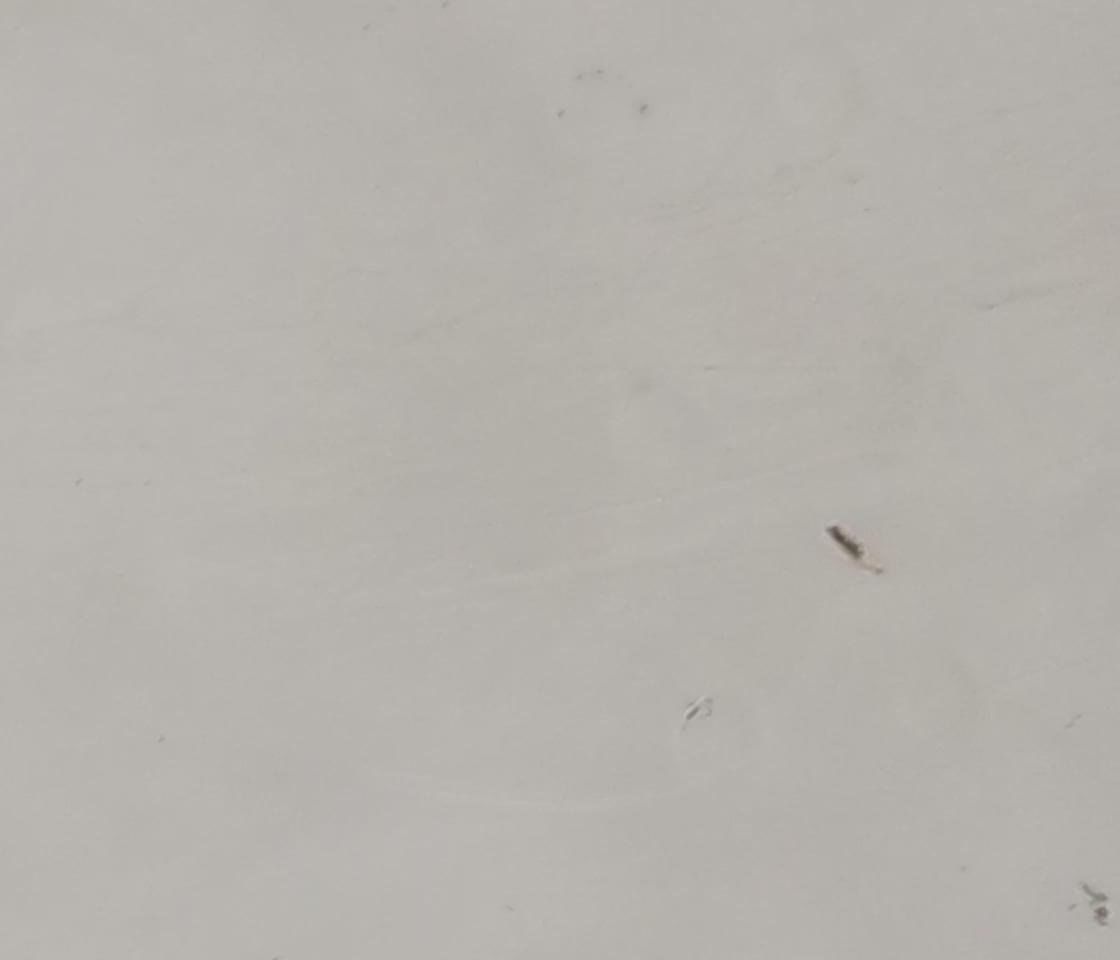scratch: (814, 512, 873, 573)
